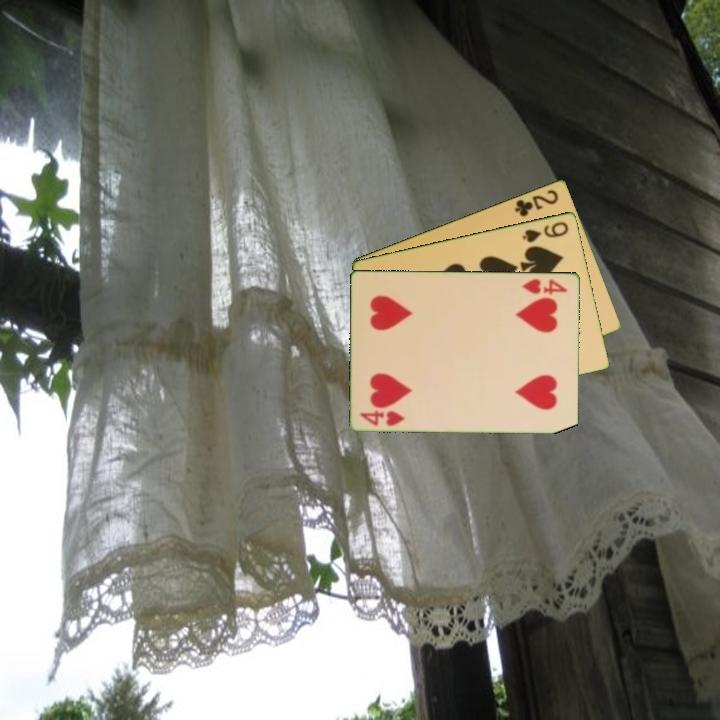2c: (511, 185, 562, 219)
4h: (518, 275, 570, 297), (356, 407, 408, 428)
9s: (519, 218, 571, 245)
